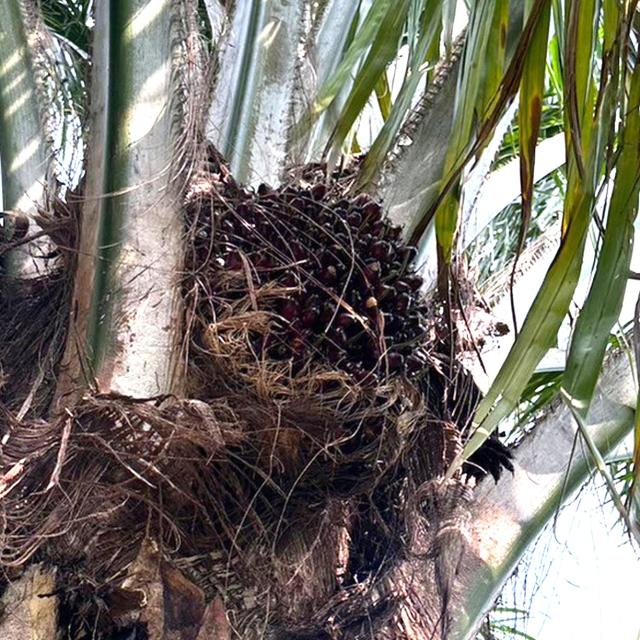ripe: (206, 158, 440, 392)
